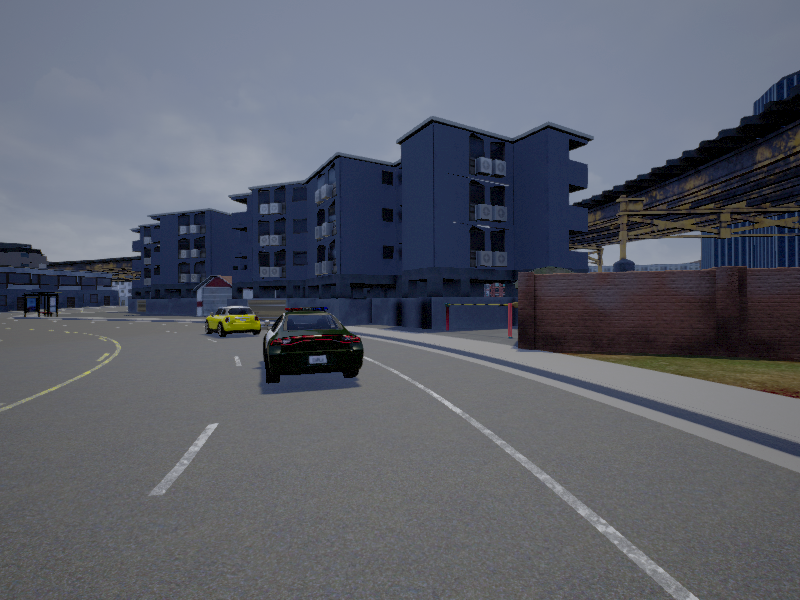Benign: (267, 308, 365, 384), (208, 306, 261, 337)
